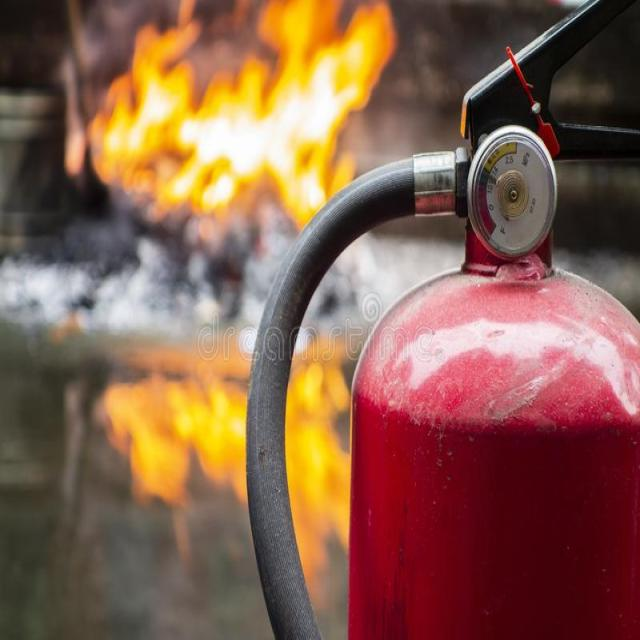fire_extinguisher: (235, 0, 640, 639)
